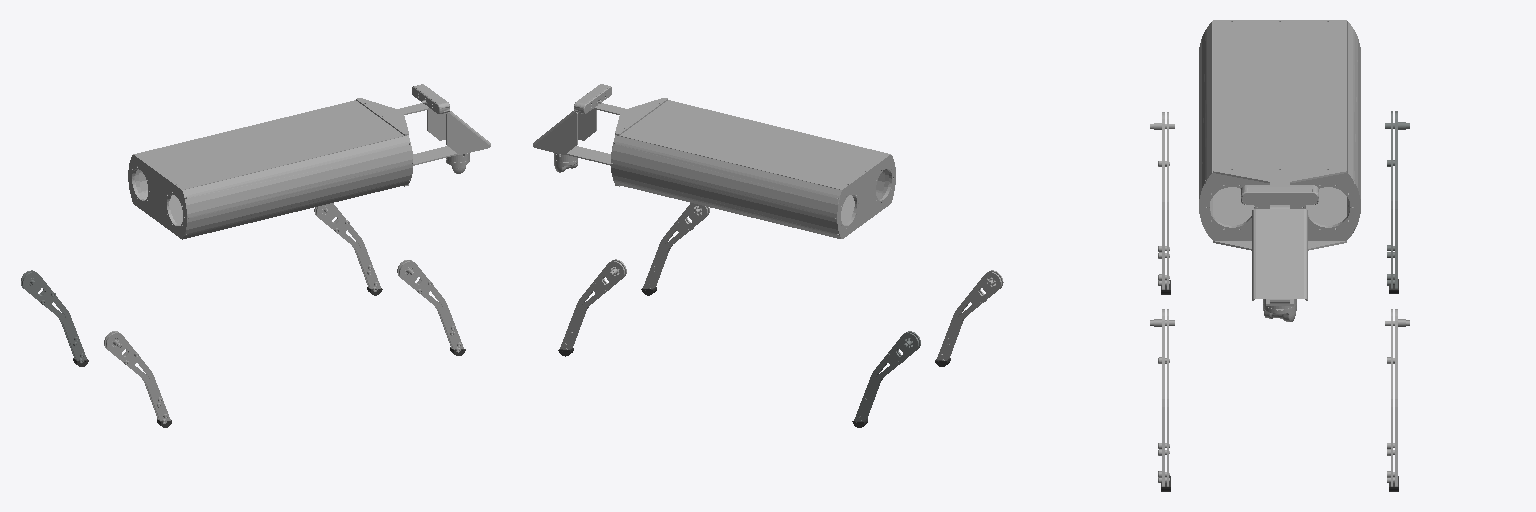
robot.urdf — grallator_isaac_lab:
<?xml version='1.0' encoding='utf-8'?>
<robot name="grallator_isaac_lab">
  <link name="trunk">
    <inertial>
      <origin xyz="0.05 0 0.03" rpy="0 0 0" />
      <mass value="12.000000" />
      <inertia ixx="0.056" iyy="0.531" izz="0.563" ixy="0" ixz="0" iyz="0" />
    </inertial>
    <visual>
      <origin xyz="0 0 0" rpy="0 0 0" />
      <geometry>
        <mesh filename="../meshes/base_link.STL" />
      </geometry>
      <material name="auto_mat_5821239353059741668">
        <color rgba="0.698039215686274 0.698039215686274 0.698039215686274 1" />
      </material>
    </visual>
    <collision name="trunk_collision">
      <origin xyz="-0.035 0 0" rpy="0 0 0" />
      <geometry>
        <box size="0.72 0.21 0.11" />
      </geometry>
    </collision>
    <collision name="top_sensor_collision">
      <origin xyz="0.24 0 0.09" rpy="0 0 0" />
      <geometry>
        <box size="0.1 0.07 0.05" />
      </geometry>
    </collision>
  </link>
  <link name="FR_hip">
    <inertial>
      <origin xyz="0.0422658 0.0029172 -0.00194417" rpy="0.00175072737 0.00899899735 1.56940926" />
      <mass value="2.068198" />
      <inertia ixx="0.0058451364" iyy="0.004962876" izz="0.0043981895" ixy="0" ixz="0" iyz="0" />
    </inertial>
    <visual>
      <origin xyz="0 0 0" rpy="0 0 0" />
      <geometry>
        <mesh filename="../meshes/FRABAD.STL" />
      </geometry>
      <material name="auto_mat_3496808709860041112">
        <color rgba="0.792156862745098 0.819607843137255 0.933333333333333 1" />
      </material>
    </visual>
    <collision name="FRABAD_collision">
      <origin xyz="0.035 0 0" rpy="0 0 0" />
      <geometry>
        <sphere radius="0.055" />
      </geometry>
    </collision>
  </link>
  <joint name="FR_hip_joint" type="revolute">
    <origin xyz="0.3925 -0.103268106 0.0782852824" rpy="0 0 0" />
    <parent link="trunk" />
    <child link="FR_hip" />
    <axis xyz="1 0 0" />
    <limit lower="-0.79" upper="0.79" effort="90" velocity="18.85" />
    <dynamics damping="0.6" friction="0.1" />
  </joint>
  <link name="FR_thigh">
    <inertial>
      <origin xyz="-0.0367727 -0.0746392 -0.0637936" rpy="0.537728487 0.000288619694 1.56932826" />
      <mass value="3.028174" />
      <inertia ixx="0.016592203" iyy="0.014462668" izz="0.0023553611" ixy="0" ixz="0" iyz="0" />
    </inertial>
    <visual>
      <origin xyz="0 0 0" rpy="0 0 0" />
      <geometry>
        <mesh filename="../meshes/FRHIP.STL" />
      </geometry>
      <material name="auto_mat_3496808709860041112">
        <color rgba="0.792156862745098 0.819607843137255 0.933333333333333 1" />
      </material>
    </visual>
    <collision name="FRHIP_collision">
      <origin xyz="0 0 0" rpy="0 0 0" />
      <geometry>
        <sphere radius="0.055" />
      </geometry>
    </collision>
    <collision name="FR_thigh_collision_cylinder">
      <origin xyz="-0.0869669899 -0.062625 -0.146832277" rpy="2.73844622 -0.498845918 -1.78940138" />
      <geometry>
        <cylinder radius="0.034" length="0.363564936" />
      </geometry>
    </collision>
    <collision name="FR_thigh_collision_sphere_1">
      <origin xyz="0 0 0" rpy="0 0 0" />
      <geometry>
        <sphere radius="0.034" />
      </geometry>
    </collision>
    <collision name="FR_thigh_collision_sphere_2">
      <origin xyz="-0.17393398 -0.12525 -0.293664555" rpy="0 0 0" />
      <geometry>
        <sphere radius="0.034" />
      </geometry>
    </collision>
  </link>
  <joint name="FR_thigh_joint" type="revolute">
    <origin xyz="0.0972158663 -0.00373189417 -0.00254488836" rpy="0 0 0" />
    <parent link="FR_hip" />
    <child link="FR_thigh" />
    <axis xyz="0 -1 0" />
    <limit lower="-1.68" upper="1.68" effort="90" velocity="18.85" />
    <dynamics damping="0.6" friction="0.1" />
  </joint>
  <link name="FR_calf">
    <inertial>
      <origin xyz="0.0641115 -0.0078228 -0.0922608" rpy="-0.550860476 6.292821e-05 1.57100287" />
      <mass value="1.752629" />
      <inertia ixx="0.015809715" iyy="0.01557616" izz="0.00039865176" ixy="0" ixz="0" iyz="0" />
    </inertial>
    <visual>
      <origin xyz="0 0 0" rpy="0 0 0" />
      <geometry>
        <mesh filename="../meshes/FRKNEE.STL" />
      </geometry>
      <material name="auto_mat_5821239353059741668">
        <color rgba="0.698039215686274 0.698039215686274 0.698039215686274 1" />
      </material>
    </visual>
    <collision name="FR_shank_collision_cylinder">
      <origin xyz="0.082295 -0.002875 -0.149915" rpy="3.12241747 0.501954858 3.06683413" />
      <geometry>
        <cylinder radius="0.034" length="0.342083264" />
      </geometry>
    </collision>
    <collision name="FR_shank_collision_sphere_1">
      <origin xyz="0 0 0" rpy="0 0 0" />
      <geometry>
        <sphere radius="0.034" />
      </geometry>
    </collision>
    <collision name="FR_shank_collision_sphere_2">
      <origin xyz="0.16459 -0.00575 -0.29983" rpy="0 0 0" />
      <geometry>
        <sphere radius="0.034" />
      </geometry>
    </collision>
  </link>
  <joint name="FR_calf_joint" type="revolute">
    <origin xyz="-0.17393398 -0.12525 -0.293664555" rpy="0 0 0" />
    <parent link="FR_thigh" />
    <child link="FR_calf" />
    <axis xyz="0 1 0" />
    <limit lower="-1.56" upper="0" effort="90" velocity="18.85" />
    <dynamics damping="0.6" friction="0.1" />
  </joint>
  <link name="FR_foot">
    <inertial>
      <origin xyz="0 0 0" rpy="0 0 0" />
      <mass value="0.001000" />
      <inertia ixx="1e-06" iyy="1e-06" izz="1e-06" ixy="0" ixz="0" iyz="0" />
    </inertial>
    <visual>
      <origin xyz="0 0 0" rpy="0 0 0" />
      <geometry>
        <mesh filename="../meshes/FRFoot.STL" />
      </geometry>
      <material name="auto_mat_5433279214290689598">
        <color rgba="0.298039215686275 0.298039215686275 0.298039215686275 1" />
      </material>
    </visual>
    <collision name="FR_foot_collision">
      <origin xyz="0 0 0" rpy="0 0 0" />
      <geometry>
        <sphere radius="0.04" />
      </geometry>
    </collision>
  </link>
  <joint name="FR_calf_to_FR_foot_fixed" type="fixed">
    <origin xyz="0.16459 -0.00575 -0.29983" rpy="0 0 0" />
    <parent link="FR_calf" />
    <child link="FR_foot" />
  </joint>
  <link name="FL_hip">
    <inertial>
      <origin xyz="0.0422658 -0.000227935 -0.00350336" rpy="0.0013271744 -0.000157446059 1.57054275" />
      <mass value="2.088075" />
      <inertia ixx="0.0058788153" iyy="0.0050105737" izz="0.0044629583" ixy="0" ixz="0" iyz="0" />
    </inertial>
    <visual>
      <origin xyz="0 0 0" rpy="0 0 0" />
      <geometry>
        <mesh filename="../meshes/FLABAD.STL" />
      </geometry>
      <material name="auto_mat_3496808709860041112">
        <color rgba="0.792156862745098 0.819607843137255 0.933333333333333 1" />
      </material>
    </visual>
    <collision name="FLABAD_collision">
      <origin xyz="0.035 0 0" rpy="0 0 0" />
      <geometry>
        <sphere radius="0.055" />
      </geometry>
    </collision>
  </link>
  <joint name="FL_hip_joint" type="revolute">
    <origin xyz="0.3925 0.1 0.0801721242" rpy="0 0 0" />
    <parent link="trunk" />
    <child link="FL_hip" />
    <axis xyz="1 0 0" />
    <limit lower="-0.79" upper="0.79" effort="90" velocity="18.85" />
    <dynamics damping="0.6" friction="0.1" />
  </joint>
  <link name="FL_thigh">
    <inertial>
      <origin xyz="-0.0337775 0.0725643 -0.0456768" rpy="0.544333835 -0.000953221154 1.57184458" />
      <mass value="2.998190" />
      <inertia ixx="0.017219002" iyy="0.015004134" izz="0.0024472571" ixy="0" ixz="0" iyz="0" />
    </inertial>
    <visual>
      <origin xyz="0 0 0" rpy="0 0 0" />
      <geometry>
        <mesh filename="../meshes/FLHIP.STL" />
      </geometry>
      <material name="auto_mat_5821239353059741668">
        <color rgba="0.698039215686274 0.698039215686274 0.698039215686274 1" />
      </material>
    </visual>
    <collision name="FLHIP_collision">
      <origin xyz="0 0 0" rpy="0 0 0" />
      <geometry>
        <sphere radius="0.055" />
      </geometry>
    </collision>
    <collision name="FL_thigh_collision_cylinder">
      <origin xyz="-0.0832956939 0.062625 -0.147682729" rpy="-2.74052614 -0.478936851 1.75306341" />
      <geometry>
        <cylinder radius="0.034" length="0.36149828" />
      </geometry>
    </collision>
    <collision name="FL_thigh_collision_sphere_1">
      <origin xyz="0 0 0" rpy="0 0 0" />
      <geometry>
        <sphere radius="0.034" />
      </geometry>
    </collision>
    <collision name="FL_thigh_collision_sphere_2">
      <origin xyz="-0.166591388 0.12525 -0.295365457" rpy="0 0 0" />
      <geometry>
        <sphere radius="0.034" />
      </geometry>
    </collision>
  </link>
  <joint name="FL_thigh_joint" type="revolute">
    <origin xyz="0.0898732742 0.007 -0.00273082804" rpy="0 0 0" />
    <parent link="FL_hip" />
    <child link="FL_thigh" />
    <axis xyz="0 1 0" />
    <limit lower="-1.68" upper="1.68" effort="90" velocity="18.85" />
    <dynamics damping="0.6" friction="0.1" />
  </joint>
  <link name="FL_calf">
    <inertial>
      <origin xyz="0.0641159 0.00735397 -0.0922189" rpy="-0.550860476 6.292821e-05 1.57100287" />
      <mass value="1.762735" />
      <inertia ixx="0.015883495" iyy="0.015648787" izz="0.00040053036" ixy="0" ixz="0" iyz="0" />
    </inertial>
    <visual>
      <origin xyz="0 0 0" rpy="0 0 0" />
      <geometry>
        <mesh filename="../meshes/FLKNEE.STL" />
      </geometry>
      <material name="auto_mat_5821239353059741668">
        <color rgba="0.698039215686274 0.698039215686274 0.698039215686274 1" />
      </material>
    </visual>
    <collision name="FL_shank_collision_cylinder">
      <origin xyz="0.082295 0.002875 -0.149915" rpy="-3.12241747 0.501954858 -3.06683413" />
      <geometry>
        <cylinder radius="0.034" length="0.342083264" />
      </geometry>
    </collision>
    <collision name="FL_shank_collision_sphere_1">
      <origin xyz="0 0 0" rpy="0 0 0" />
      <geometry>
        <sphere radius="0.034" />
      </geometry>
    </collision>
    <collision name="FL_shank_collision_sphere_2">
      <origin xyz="0.16459 0.00575 -0.29983" rpy="0 0 0" />
      <geometry>
        <sphere radius="0.034" />
      </geometry>
    </collision>
  </link>
  <joint name="FL_calf_joint" type="revolute">
    <origin xyz="-0.166591388 0.12525 -0.295365457" rpy="0 0 0" />
    <parent link="FL_thigh" />
    <child link="FL_calf" />
    <axis xyz="0 -1 0" />
    <limit lower="0" upper="1.56" effort="90" velocity="18.85" />
    <dynamics damping="0.6" friction="0.1" />
  </joint>
  <link name="FL_foot">
    <inertial>
      <origin xyz="0 0 0" rpy="0 0 0" />
      <mass value="0.001000" />
      <inertia ixx="1e-06" iyy="1e-06" izz="1e-06" ixy="0" ixz="0" iyz="0" />
    </inertial>
    <visual>
      <origin xyz="0 0 0" rpy="0 0 0" />
      <geometry>
        <mesh filename="../meshes/FLfoot.STL" />
      </geometry>
      <material name="auto_mat_5433279214290689598">
        <color rgba="0.298039215686275 0.298039215686275 0.298039215686275 1" />
      </material>
    </visual>
    <collision name="FL_foot_collision">
      <origin xyz="0 0 0" rpy="0 0 0" />
      <geometry>
        <sphere radius="0.04" />
      </geometry>
    </collision>
  </link>
  <joint name="FL_calf_to_FL_foot_fixed" type="fixed">
    <origin xyz="0.16459 0.00575 -0.29983" rpy="0 0 0" />
    <parent link="FL_calf" />
    <child link="FL_foot" />
  </joint>
  <link name="RR_hip">
    <inertial>
      <origin xyz="-0.0422658 0.0029172 0.00194417" rpy="0.00175072737 -0.00899899735 1.57218237" />
      <mass value="2.067944" />
      <inertia ixx="0.0058444196" iyy="0.0049622674" izz="0.0043976502" ixy="0" ixz="0" iyz="0" />
    </inertial>
    <visual>
      <origin xyz="0 0 0" rpy="0 0 0" />
      <geometry>
        <mesh filename="../meshes/RRABAD.STL" />
      </geometry>
      <material name="auto_mat_3496808709860041112">
        <color rgba="0.792156862745098 0.819607843137255 0.933333333333333 1" />
      </material>
    </visual>
    <collision name="RRABAD_collision">
      <origin xyz="-0.035 0 0" rpy="0 0 0" />
      <geometry>
        <sphere radius="0.055" />
      </geometry>
    </collision>
  </link>
  <joint name="RR_hip_joint" type="revolute">
    <origin xyz="-0.3925 -0.103268106 0.0745115989" rpy="0 0 0" />
    <parent link="trunk" />
    <child link="RR_hip" />
    <axis xyz="-1 0 0" />
    <limit lower="-0.79" upper="0.79" effort="90" velocity="18.85" />
    <dynamics damping="0.6" friction="0.1" />
  </joint>
  <link name="RR_thigh">
    <inertial>
      <origin xyz="-0.0367528 -0.0746596 -0.0637499" rpy="0.53772725 0.000301070581 1.56931069" />
      <mass value="3.028219" />
      <inertia ixx="0.016585228" iyy="0.014456513" izz="0.0023543832" ixy="0" ixz="0" iyz="0" />
    </inertial>
    <visual>
      <origin xyz="0 0 0" rpy="0 0 0" />
      <geometry>
        <mesh filename="../meshes/RRHIP.STL" />
      </geometry>
      <material name="auto_mat_3496808709860041112">
        <color rgba="0.792156862745098 0.819607843137255 0.933333333333333 1" />
      </material>
    </visual>
    <collision name="RRHIP_collision">
      <origin xyz="0 0 0" rpy="0 0 0" />
      <geometry>
        <sphere radius="0.055" />
      </geometry>
    </collision>
    <collision name="RR_thigh_collision_cylinder">
      <origin xyz="-0.0869669899 -0.062625 -0.146832277" rpy="2.73844622 -0.498845918 -1.78940138" />
      <geometry>
        <cylinder radius="0.034" length="0.363564936" />
      </geometry>
    </collision>
    <collision name="RR_thigh_collision_sphere_1">
      <origin xyz="0 0 0" rpy="0 0 0" />
      <geometry>
        <sphere radius="0.034" />
      </geometry>
    </collision>
    <collision name="RR_thigh_collision_sphere_2">
      <origin xyz="-0.17393398 -0.12525 -0.293664555" rpy="0 0 0" />
      <geometry>
        <sphere radius="0.034" />
      </geometry>
    </collision>
  </link>
  <joint name="RR_thigh_joint" type="revolute">
    <origin xyz="-0.0897841337 -0.00373189417 0.0012287952" rpy="0 0 0" />
    <parent link="RR_hip" />
    <child link="RR_thigh" />
    <axis xyz="0 -1 0" />
    <limit lower="-1.68" upper="1.68" effort="90" velocity="18.85" />
    <dynamics damping="0.6" friction="0.1" />
  </joint>
  <link name="RR_calf">
    <inertial>
      <origin xyz="0.0641159 -0.00782065 -0.0922189" rpy="-0.550860476 6.292821e-05 1.57100287" />
      <mass value="1.752837" />
      <inertia ixx="0.015794356" iyy="0.015560966" izz="0.00039828256" ixy="0" ixz="0" iyz="0" />
    </inertial>
    <visual>
      <origin xyz="0 0 0" rpy="0 0 0" />
      <geometry>
        <mesh filename="../meshes/RRKNEE.STL" />
      </geometry>
      <material name="auto_mat_5821239353059741668">
        <color rgba="0.698039215686274 0.698039215686274 0.698039215686274 1" />
      </material>
    </visual>
    <collision name="RR_shank_collision_cylinder">
      <origin xyz="0.082295 -0.002875 -0.149915" rpy="3.12241747 0.501954858 3.06683413" />
      <geometry>
        <cylinder radius="0.034" length="0.342083264" />
      </geometry>
    </collision>
    <collision name="RR_shank_collision_sphere_1">
      <origin xyz="0 0 0" rpy="0 0 0" />
      <geometry>
        <sphere radius="0.034" />
      </geometry>
    </collision>
    <collision name="RR_shank_collision_sphere_2">
      <origin xyz="0.16459 -0.00575 -0.29983" rpy="0 0 0" />
      <geometry>
        <sphere radius="0.034" />
      </geometry>
    </collision>
  </link>
  <joint name="RR_calf_joint" type="revolute">
    <origin xyz="-0.17393398 -0.12525 -0.293664555" rpy="0 0 0" />
    <parent link="RR_thigh" />
    <child link="RR_calf" />
    <axis xyz="0 1 0" />
    <limit lower="-1.56" upper="0" effort="90" velocity="18.85" />
    <dynamics damping="0.6" friction="0.1" />
  </joint>
  <link name="RR_foot">
    <inertial>
      <origin xyz="0 0 0" rpy="0 0 0" />
      <mass value="0.001000" />
      <inertia ixx="1e-06" iyy="1e-06" izz="1e-06" ixy="0" ixz="0" iyz="0" />
    </inertial>
    <visual>
      <origin xyz="0 0 0" rpy="0 0 0" />
      <geometry>
        <mesh filename="../meshes/RRFoot.STL" />
      </geometry>
      <material name="auto_mat_5433279214290689598">
        <color rgba="0.298039215686275 0.298039215686275 0.298039215686275 1" />
      </material>
    </visual>
    <collision name="RR_foot_collision">
      <origin xyz="0 0 0" rpy="0 0 0" />
      <geometry>
        <sphere radius="0.04" />
      </geometry>
    </collision>
  </link>
  <joint name="RR_calf_to_RR_foot_fixed" type="fixed">
    <origin xyz="0.16459 -0.00575 -0.29983" rpy="0 0 0" />
    <parent link="RR_calf" />
    <child link="RR_foot" />
  </joint>
  <link name="RL_hip">
    <inertial>
      <origin xyz="-0.0422658 -0.000227935 0.00350336" rpy="0.0013271843 0.0001574503 1.57104924" />
      <mass value="2.068009" />
      <inertia ixx="0.0058223222" iyy="0.004962424" izz="0.0044200709" ixy="0" ixz="0" iyz="0" />
    </inertial>
    <visual>
      <origin xyz="0 0 0" rpy="0 0 0" />
      <geometry>
        <mesh filename="../meshes/RLABAD.STL" />
      </geometry>
      <material name="auto_mat_3496808709860041112">
        <color rgba="0.792156862745098 0.819607843137255 0.933333333333333 1" />
      </material>
    </visual>
    <collision name="RLABAD_collision">
      <origin xyz="-0.035 0 0" rpy="0 0 0" />
      <geometry>
        <sphere radius="0.055" />
      </geometry>
    </collision>
  </link>
  <joint name="RL_hip_joint" type="revolute">
    <origin xyz="-0.3925 0.1 0.0726247571" rpy="0 0 0" />
    <parent link="trunk" />
    <child link="RL_hip" />
    <axis xyz="-1 0 0" />
    <limit lower="-0.79" upper="0.79" effort="90" velocity="18.85" />
    <dynamics damping="0.6" friction="0.1" />
  </joint>
  <link name="RL_thigh">
    <inertial>
      <origin xyz="-0.0406471 0.0746578 -0.0578909" rpy="0.544335418 -0.000913020889 1.57177978" />
      <mass value="3.028122" />
      <inertia ixx="0.016587999" iyy="0.014431562" izz="0.0023810791" ixy="0" ixz="0" iyz="0" />
    </inertial>
    <visual>
      <origin xyz="0 0 0" rpy="0 0 0" />
      <geometry>
        <mesh filename="../meshes/RLHIP.STL" />
      </geometry>
      <material name="auto_mat_3496808709860041112">
        <color rgba="0.792156862745098 0.819607843137255 0.933333333333333 1" />
      </material>
    </visual>
    <collision name="RLHIP_collision">
      <origin xyz="0 0 0" rpy="0 0 0" />
      <geometry>
        <sphere radius="0.055" />
      </geometry>
    </collision>
    <collision name="RL_thigh_collision_cylinder">
      <origin xyz="-0.0858752271 0.062625 -0.145437017" rpy="-2.73498937 -0.496929727 1.77690043" />
      <geometry>
        <cylinder radius="0.034" length="0.360268628" />
      </geometry>
    </collision>
    <collision name="RL_thigh_collision_sphere_1">
      <origin xyz="0 0 0" rpy="0 0 0" />
      <geometry>
        <sphere radius="0.034" />
      </geometry>
    </collision>
    <collision name="RL_thigh_collision_sphere_2">
      <origin xyz="-0.171750454 0.12525 -0.290874034" rpy="0 0 0" />
      <geometry>
        <sphere radius="0.034" />
      </geometry>
    </collision>
  </link>
  <joint name="RL_thigh_joint" type="revolute">
    <origin xyz="-0.0938380476 0.007 0.000703396403" rpy="0 0 0" />
    <parent link="RL_hip" />
    <child link="RL_thigh" />
    <axis xyz="0 1 0" />
    <limit lower="-1.68" upper="1.68" effort="90" velocity="18.85" />
    <dynamics damping="0.6" friction="0.1" />
  </joint>
  <link name="RL_calf">
    <inertial>
      <origin xyz="0.0641159 0.00735397 -0.0922189" rpy="-0.550860476 6.292821e-05 1.57100287" />
      <mass value="1.752869" />
      <inertia ixx="0.015794645" iyy="0.015561251" izz="0.00039828986" ixy="0" ixz="0" iyz="0" />
    </inertial>
    <visual>
      <origin xyz="0 0 0" rpy="0 0 0" />
      <geometry>
        <mesh filename="../meshes/RLKNEE.STL" />
      </geometry>
      <material name="auto_mat_8766753002416677076">
        <color rgba="0.529411764705882 0.549019607843137 0.549019607843137 1" />
      </material>
    </visual>
    <collision name="RL_shank_collision_cylinder">
      <origin xyz="0.082295 0.002875 -0.149915" rpy="-3.12241747 0.501954858 -3.06683413" />
      <geometry>
        <cylinder radius="0.034" length="0.342083264" />
      </geometry>
    </collision>
    <collision name="RL_shank_collision_sphere_1">
      <origin xyz="0 0 0" rpy="0 0 0" />
      <geometry>
        <sphere radius="0.034" />
      </geometry>
    </collision>
    <collision name="RL_shank_collision_sphere_2">
      <origin xyz="0.16459 0.00575 -0.29983" rpy="0 0 0" />
      <geometry>
        <sphere radius="0.034" />
      </geometry>
    </collision>
  </link>
  <joint name="RL_calf_joint" type="revolute">
    <origin xyz="-0.171750454 0.12525 -0.290874034" rpy="0 0 0" />
    <parent link="RL_thigh" />
    <child link="RL_calf" />
    <axis xyz="0 -1 0" />
    <limit lower="0" upper="1.56" effort="90" velocity="18.85" />
    <dynamics damping="0.6" friction="0.1" />
  </joint>
  <link name="RL_foot">
    <inertial>
      <origin xyz="0 0 0" rpy="0 0 0" />
      <mass value="0.001000" />
      <inertia ixx="1e-06" iyy="1e-06" izz="1e-06" ixy="0" ixz="0" iyz="0" />
    </inertial>
    <visual>
      <origin xyz="0 0 0" rpy="0 0 0" />
      <geometry>
        <mesh filename="../meshes/RLfoot.STL" />
      </geometry>
      <material name="auto_mat_5433279214290689598">
        <color rgba="0.298039215686275 0.298039215686275 0.298039215686275 1" />
      </material>
    </visual>
    <collision name="RL_foot_collision">
      <origin xyz="0 0 0" rpy="0 0 0" />
      <geometry>
        <sphere radius="0.04" />
      </geometry>
    </collision>
  </link>
  <joint name="RL_calf_to_RL_foot_fixed" type="fixed">
    <origin xyz="0.16459 0.00575 -0.29983" rpy="0 0 0" />
    <parent link="RL_calf" />
    <child link="RL_foot" />
  </joint>
</robot>

--- Render facts (derived) ---
3 views of the same robot in one strip: view 1: azimuth 30°, elevation 25°; view 2: azimuth 150°, elevation 25°; view 3: azimuth 270°, elevation 25° (orthographic).
Model grallator_isaac_lab with 17 links and 16 joints (12 revolute, 4 fixed), rooted at trunk, posed every joint at zero.
Links seen in each view (by area): view 1: trunk, RL_calf, RR_calf, FR_calf, FL_calf; view 2: trunk, FL_calf, RL_calf, RR_calf, FR_calf; view 3: trunk, FR_calf, RL_calf, RR_calf, FL_calf.
Link boxes in pixels (box(x1,y1,x2,y2)): trunk: box(128, 84, 490, 239); RL_calf: box(21, 270, 86, 363); RR_calf: box(104, 331, 170, 423); FR_calf: box(397, 260, 463, 352); FL_calf: box(314, 203, 380, 291); trunk: box(533, 84, 895, 238); FL_calf: box(560, 259, 626, 349); RL_calf: box(854, 331, 920, 421); RR_calf: box(937, 270, 1003, 360); FR_calf: box(643, 203, 709, 288); trunk: box(1199, 20, 1360, 321); FR_calf: box(1150, 309, 1174, 486); RL_calf: box(1385, 111, 1409, 288); RR_calf: box(1150, 112, 1174, 289); FL_calf: box(1385, 309, 1409, 486).
Bounding box of the posed robot: 1.39 × 0.544 × 0.7179 m (x, y, z).
Meshes: 17 distinct files referenced, 9 mesh visuals loaded (9 binary STL); not drawn: 8 (reference not matched to a file when rendering).
